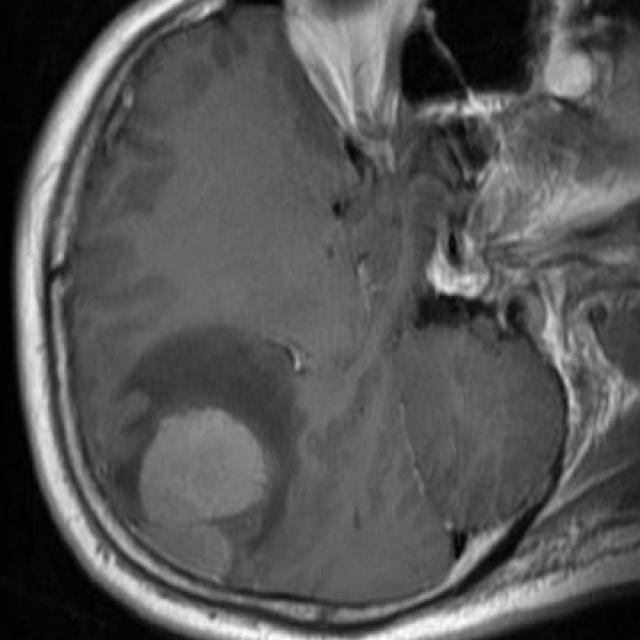meningioma: (139, 410, 267, 524)
